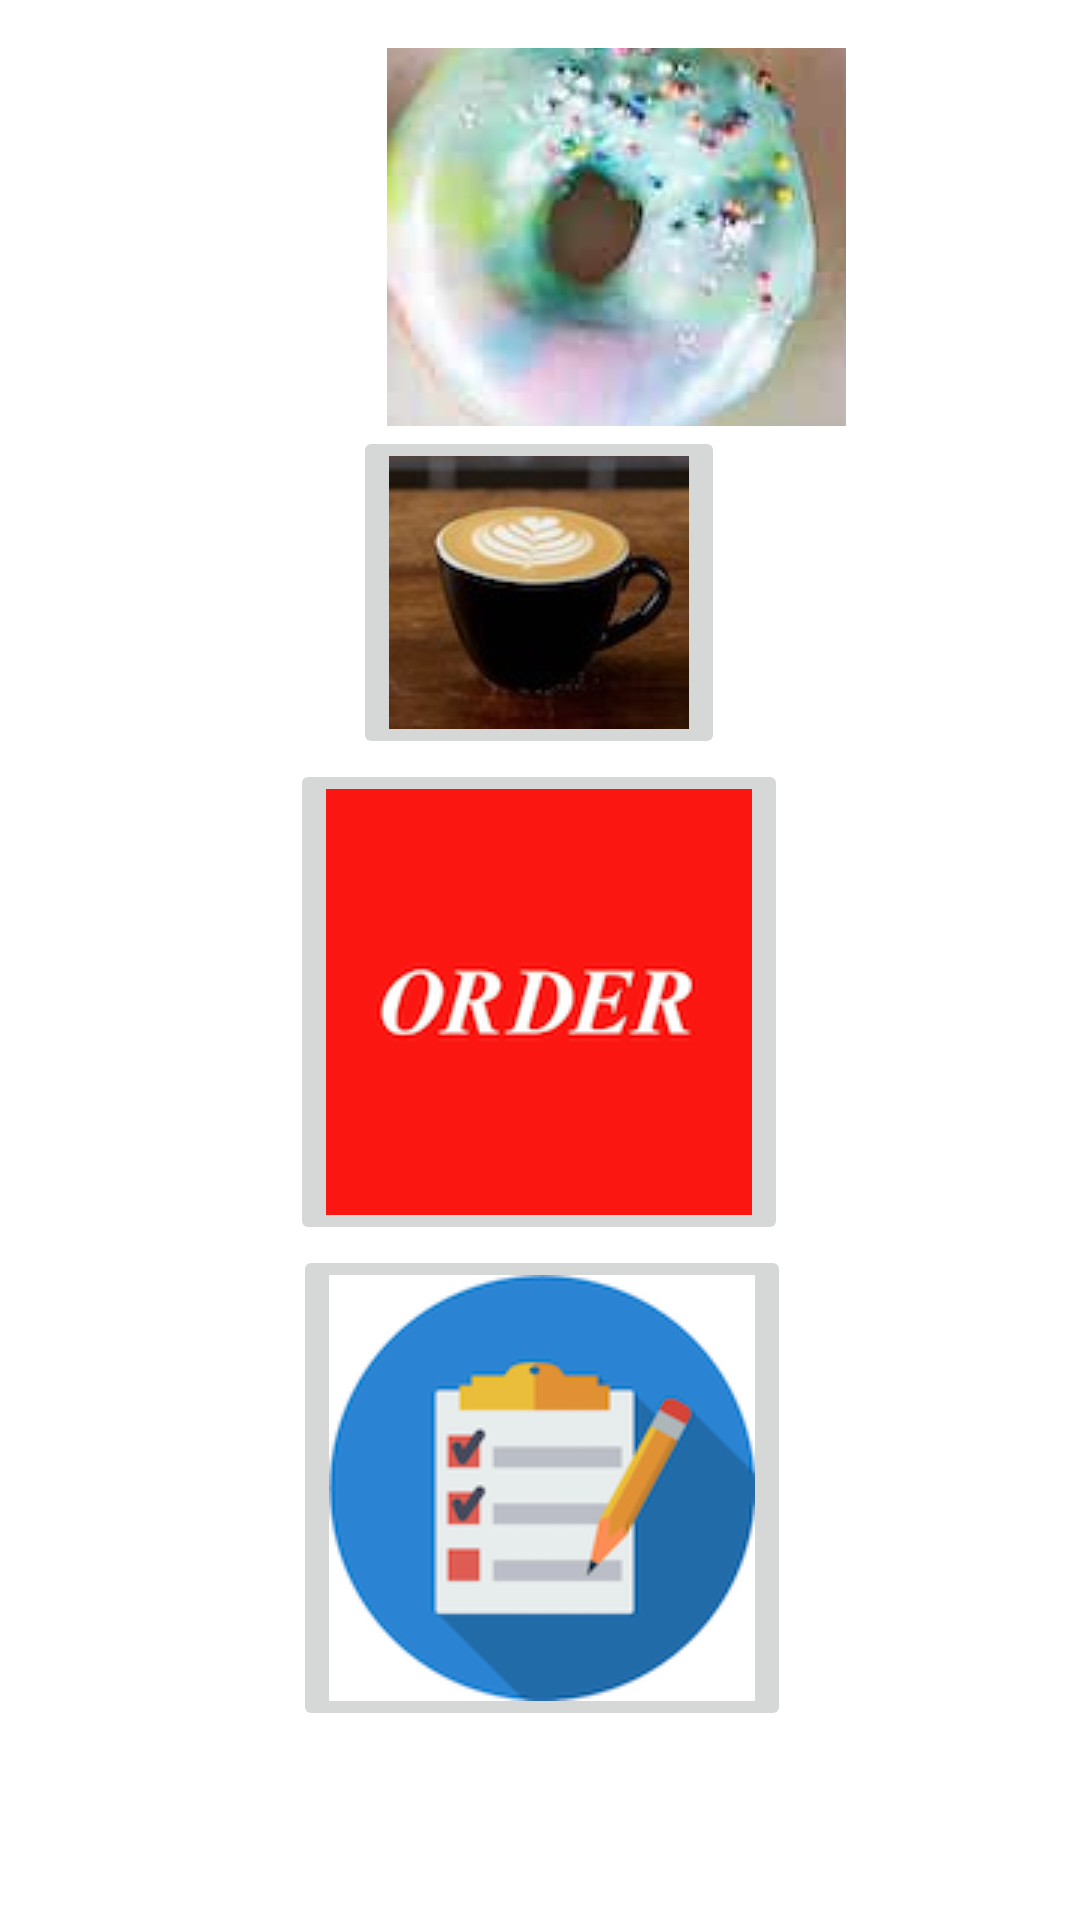

Named icons in this screenshot (1080x1920) and their centers, (x,y):
coffee: (539,592)
